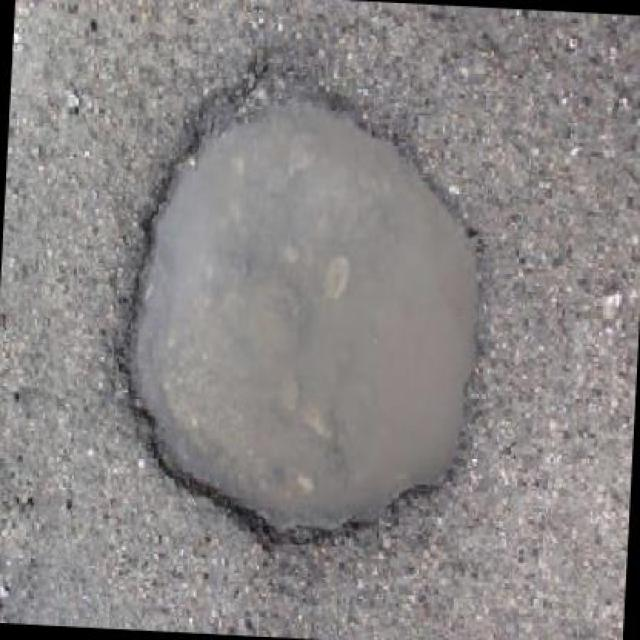pothole: (105, 52, 503, 568)
